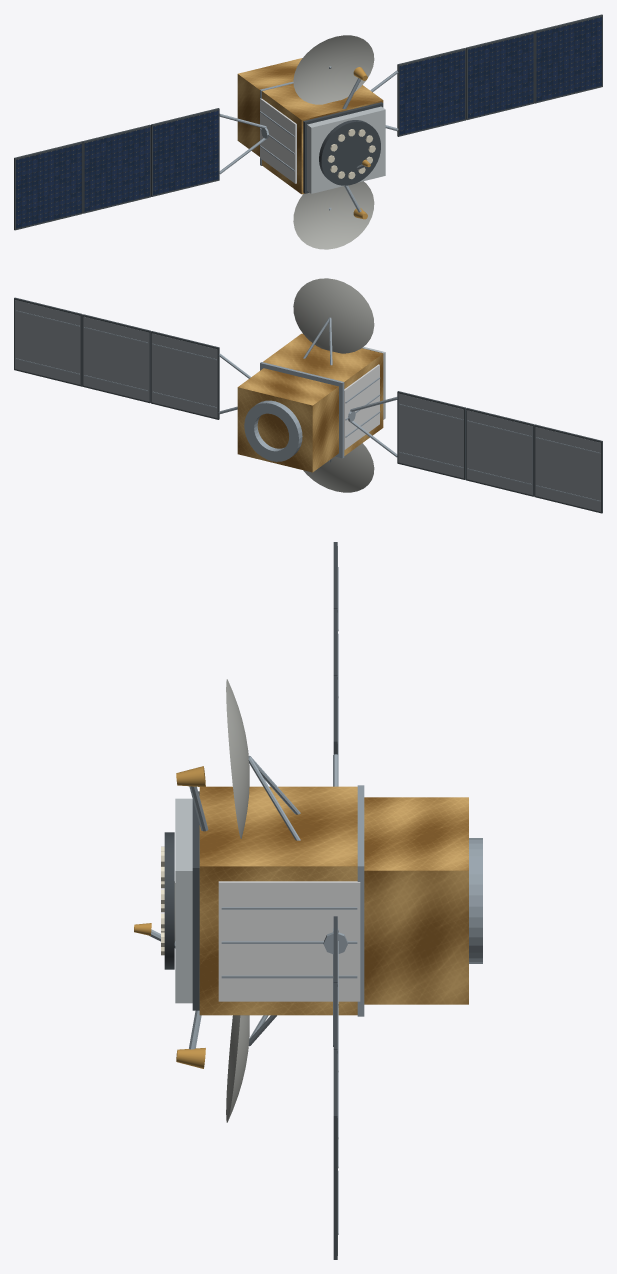
The model's file is ref-italsat-3000-26694.glb.
3 renders of one model, top to bottom at view 1: azimuth 30°, elevation 25°; view 2: azimuth 150°, elevation 25°; view 3: azimuth 270°, elevation 25°, orthographic. The views are drawn at different scales.
Visible parts, largest first — view 1: Solar cell panel (×6), Communications reflector (×2), Solar panel frame (×6), Payload module, Planar antenna aperture, Service module, Antenna equipment shelf, Radiator face, Earth-facing deck; view 2: Rear array substrate (×6), Service module, Communications reflector (×2), Solar panel frame (×6), Payload module, Launch adapter ring, Radiator face, Module interface; view 3: Service module, Payload module, Radiator face, Communications reflector (×2), Antenna equipment shelf, Launch adapter ring, Earth-facing deck, Planar antenna aperture, Module interface, Solar panel frame.
Boxes of the visible parts, bbox=[...] form: Solar cell panel (×6): bbox=[16, 17, 601, 228]; Communications reflector (×2): bbox=[293, 35, 374, 249]; Solar panel frame (×6): bbox=[14, 14, 602, 230]; Payload module: bbox=[262, 83, 383, 194]; Planar antenna aperture: bbox=[319, 120, 380, 185]; Service module: bbox=[237, 58, 302, 156]; Antenna equipment shelf: bbox=[307, 106, 385, 193]; Radiator face: bbox=[260, 98, 296, 183]; Earth-facing deck: bbox=[303, 102, 383, 193]; Rear array substrate (×6): bbox=[15, 300, 600, 511]; Service module: bbox=[237, 368, 338, 472]; Communications reflector (×2): bbox=[293, 278, 374, 492]; Solar panel frame (×6): bbox=[14, 297, 602, 513]; Payload module: bbox=[263, 333, 383, 455]; Launch adapter ring: bbox=[244, 400, 302, 461]; Radiator face: bbox=[344, 364, 379, 449]; Module interface: bbox=[260, 362, 344, 458]; Service module: bbox=[364, 797, 468, 1004]; Payload module: bbox=[199, 786, 357, 1015]; Radiator face: bbox=[218, 881, 360, 1001]; Communications reflector (×2): bbox=[226, 679, 249, 1122]; Antenna equipment shelf: bbox=[175, 798, 192, 1003]; Launch adapter ring: bbox=[469, 838, 482, 963]; Earth-facing deck: bbox=[192, 791, 199, 1010]; Planar antenna aperture: bbox=[164, 832, 174, 969]; Module interface: bbox=[357, 785, 364, 1016]; Solar panel frame: bbox=[333, 1050, 337, 1259].
Bounding box in the file's own units: 24.47 × 8.42 × 6.29.
10 materials, 2 textured.
